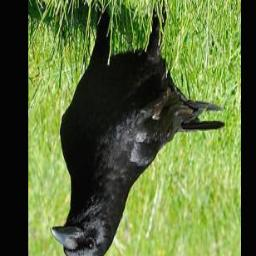Crow: (48, 0, 226, 256)
